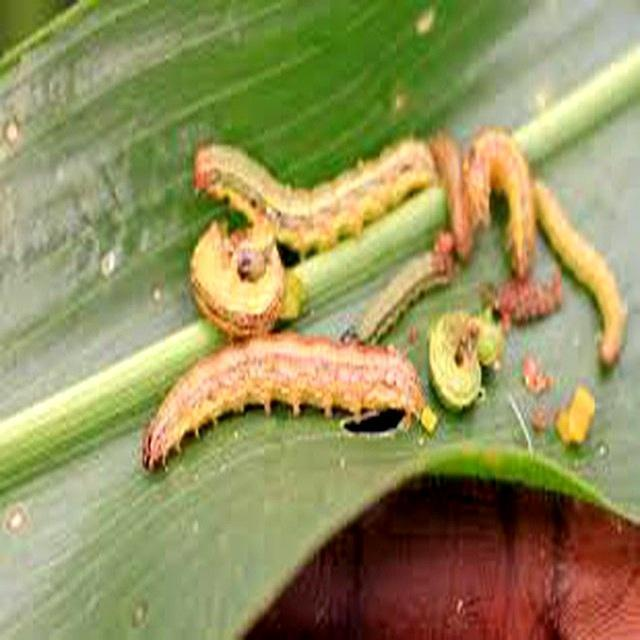gusano_cogollero: (136, 335, 428, 479), (184, 134, 428, 255)
